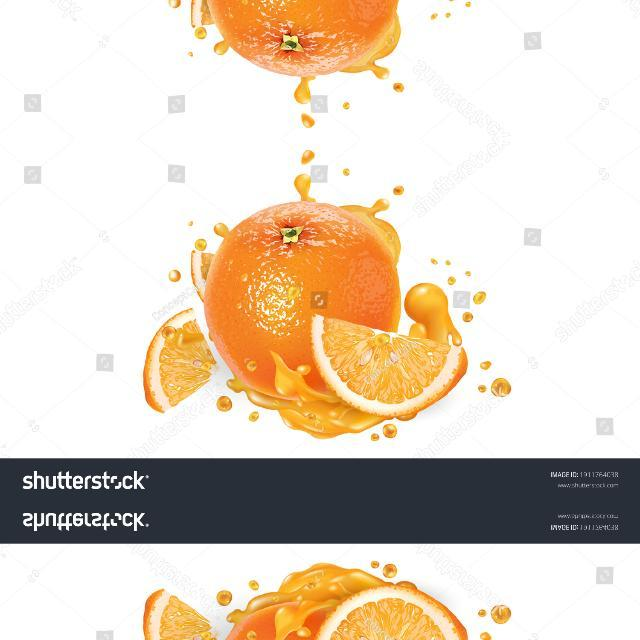Orange: (202, 199, 401, 399), (310, 312, 467, 420), (205, 0, 401, 78), (307, 582, 469, 639), (142, 307, 216, 413), (141, 587, 218, 639)
